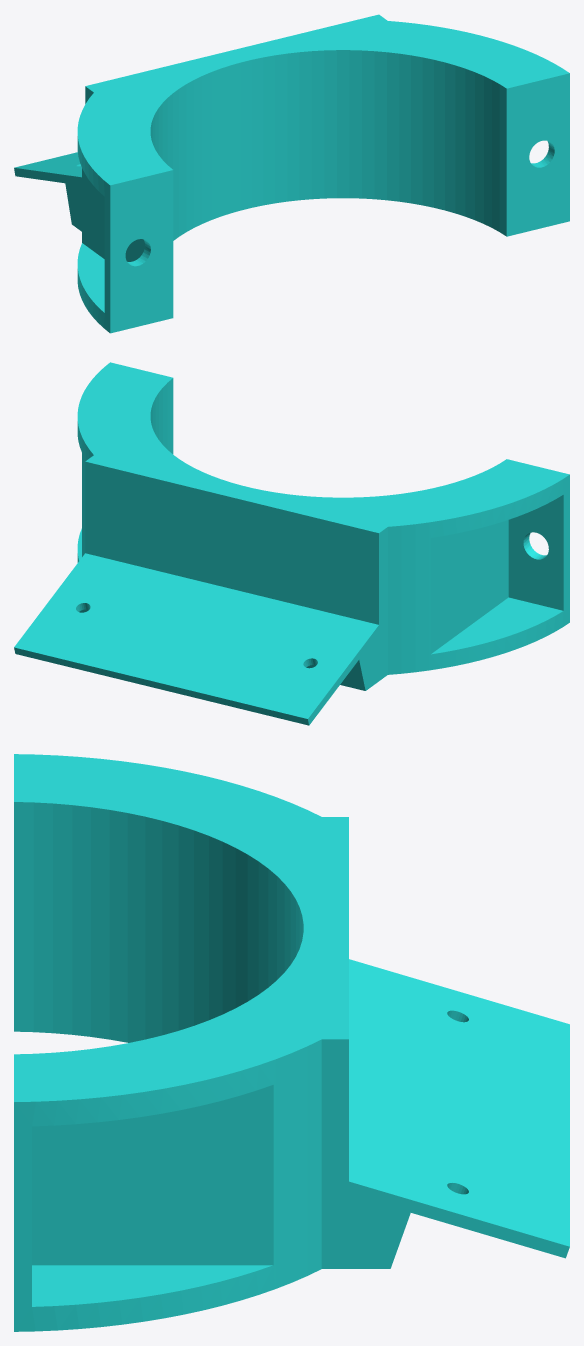
File: UR3_camera_mount_upper_.dae
3 renders of one model, top to bottom at view 1: azimuth 30°, elevation 25°; view 2: azimuth 150°, elevation 25°; view 3: azimuth 270°, elevation 25°, orthographic. The views are drawn at different scales.
Visible parts, largest first — view 1: UR3 camera mount upper v2; view 2: UR3 camera mount upper v2; view 3: UR3 camera mount upper v2.
Part boxes in pixels (x1=…): UR3 camera mount upper v2: x1=14, y1=14, x2=569, y2=333; UR3 camera mount upper v2: x1=14, y1=362, x2=569, y2=725; UR3 camera mount upper v2: x1=14, y1=754, x2=569, y2=1331.
Bounding box in the file's own units: 0.091 × 0.0614 × 0.028.
